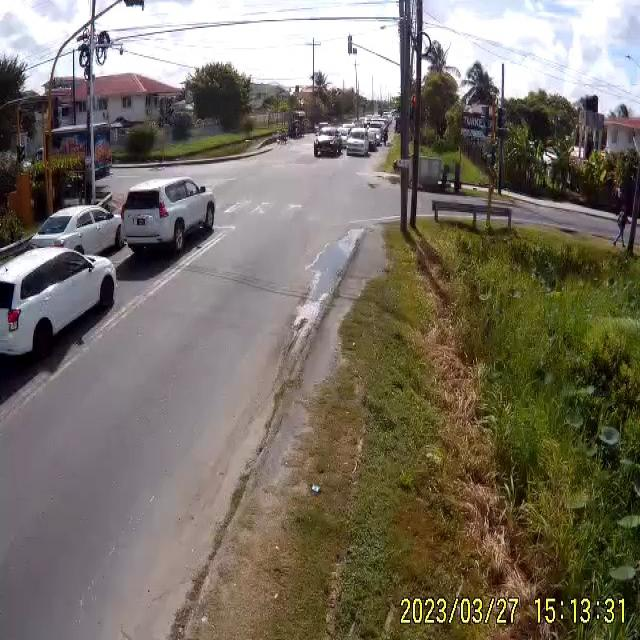car: (0, 241, 119, 372), (120, 174, 217, 258), (30, 205, 127, 255), (312, 129, 342, 159), (342, 134, 368, 156)
person: (613, 210, 628, 248)
